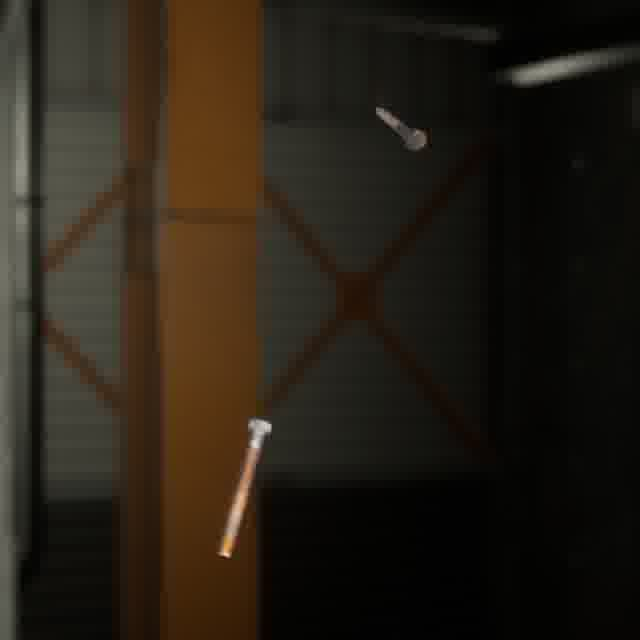bolt: (213, 414, 276, 564), (371, 102, 431, 156)
